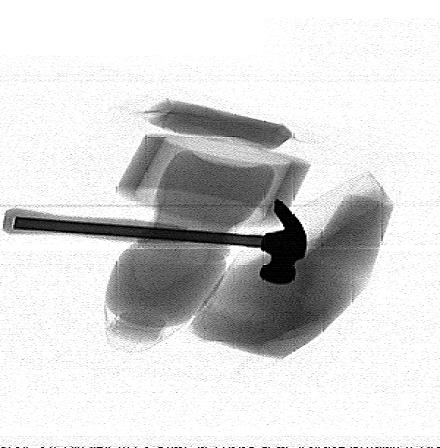Hammer: (2, 197, 309, 285)
